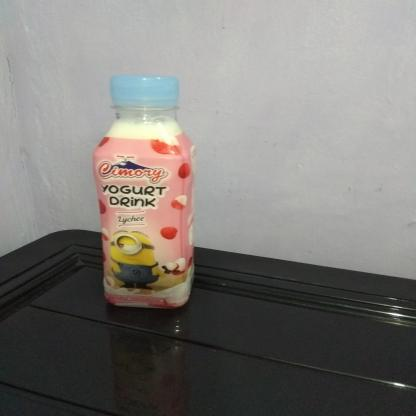bottle: (85, 68, 199, 314)
